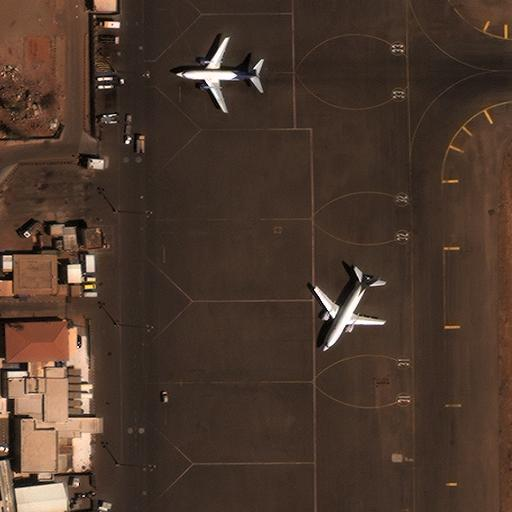Medium Civil Transport: (175, 36, 260, 113), (313, 275, 383, 351)
